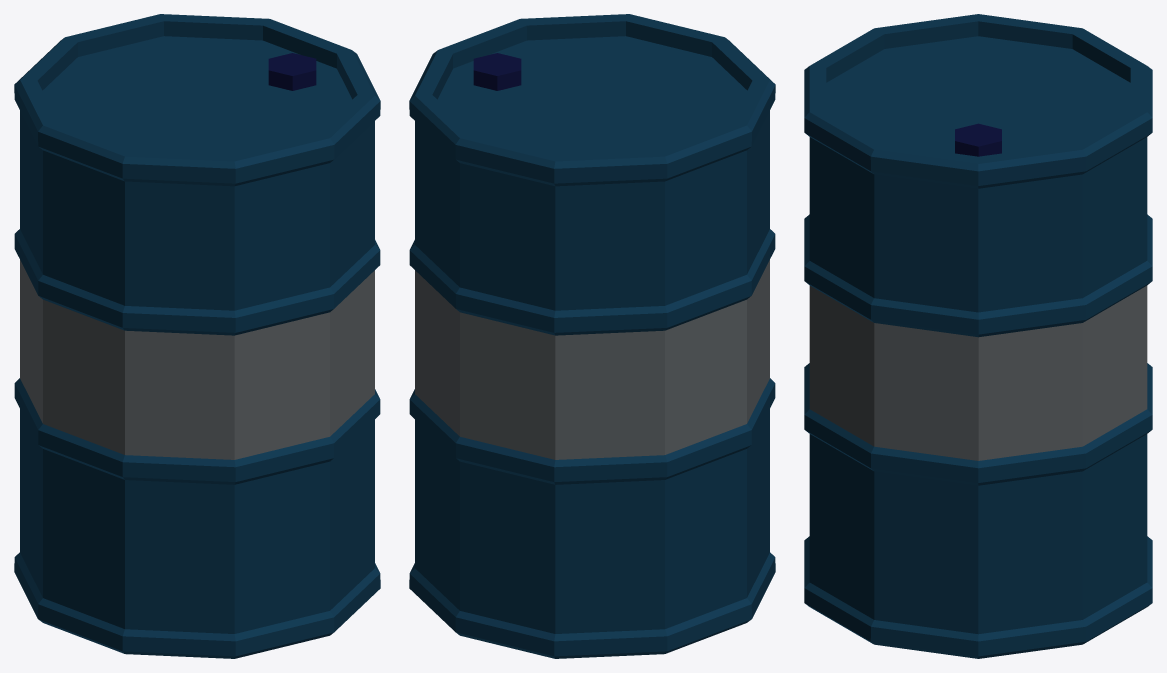
The model's file is Barrel.fbx.
The picture shows the model from 3 angles, left to right: view 1: azimuth 30°, elevation 25°; view 2: azimuth 150°, elevation 25°; view 3: azimuth 270°, elevation 25°; orthographic projection.
Parts seen in each view (by area): view 1: Barrel; view 2: Barrel; view 3: Barrel.
Boxes of the visible parts, x1,y1,x2,y2 form: Barrel: (14,14,380,658); Barrel: (409,14,775,658); Barrel: (804,14,1152,658).
Bounding box in the file's own units: 67.1 × 100 × 63.82.
